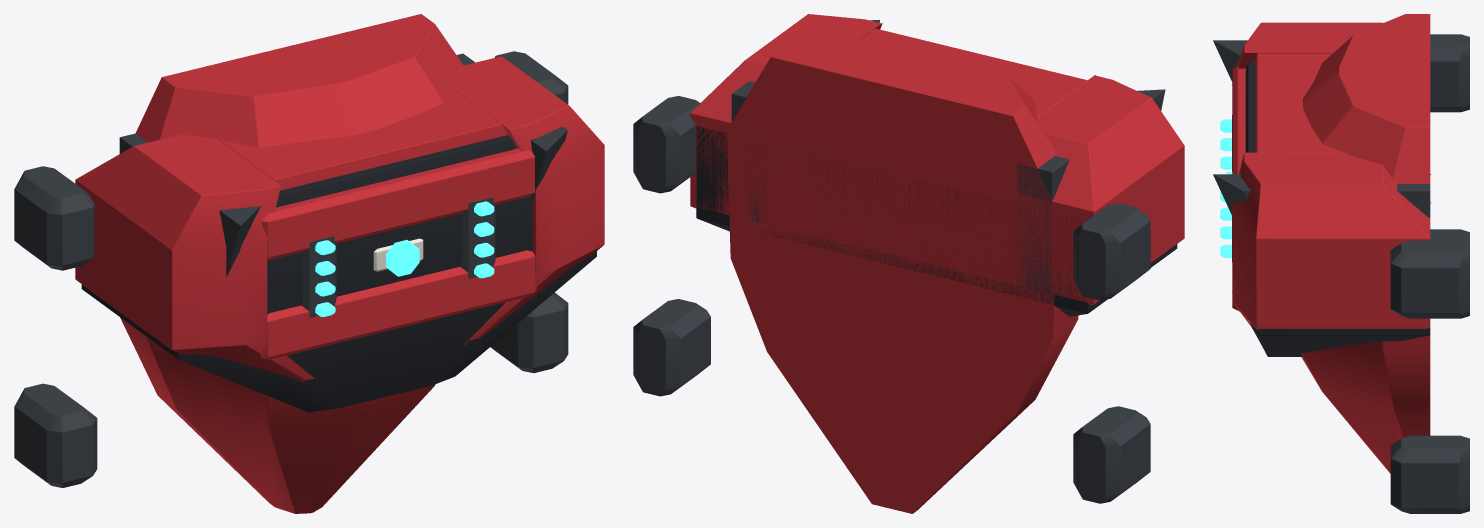
The model's file is UpperArmFront_Set10_Aegis.fbx.
3 views of the same model, side by side, from view 1: azimuth 30°, elevation 25°; view 2: azimuth 150°, elevation 25°; view 3: azimuth 270°, elevation 25° (orthographic). The views are drawn at different scales.
Parts seen in each view (by area): view 1: UpperArmFront_Set10_Aegis; view 2: UpperArmFront_Set10_Aegis; view 3: UpperArmFront_Set10_Aegis.
Boxes of the visible parts, <box> form: UpperArmFront_Set10_Aegis: <box>14,14,604,513</box>; UpperArmFront_Set10_Aegis: <box>633,14,1184,513</box>; UpperArmFront_Set10_Aegis: <box>1213,14,1469,513</box>.
Size of the model in its own units: 0.41 by 0.34 by 0.1946.
